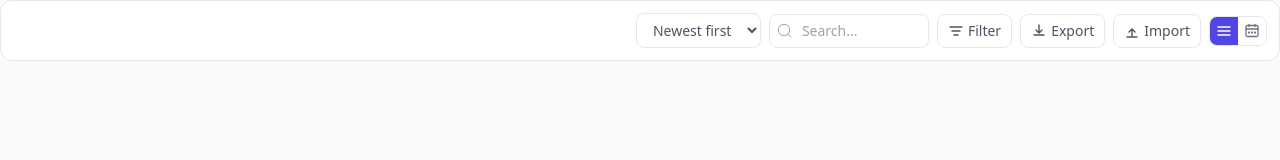
Test: Toolbar – export dropdown › opens the export menu on Export button click
Click the button with aria-label "export tasks": (1063, 30) [1020, 14, 1105, 48]
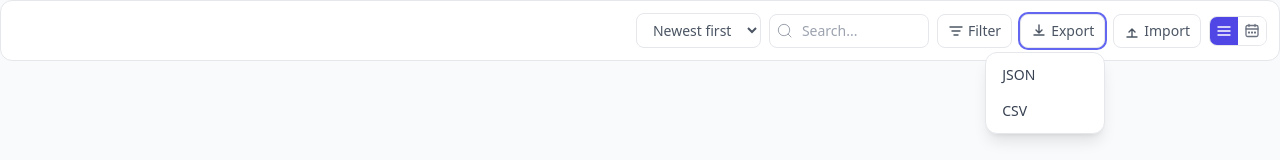
Now the menu is shown, box [985, 52, 1105, 134]
Now the menu item "JSON" is shown, box [986, 56, 1104, 92]
Now the menu item "CSV" is shown, box [986, 92, 1104, 128]
